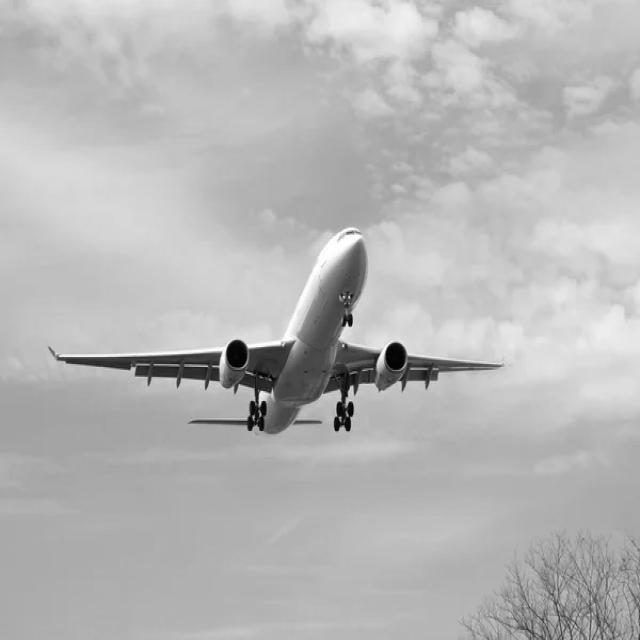Aircraft: (49, 218, 506, 446)
